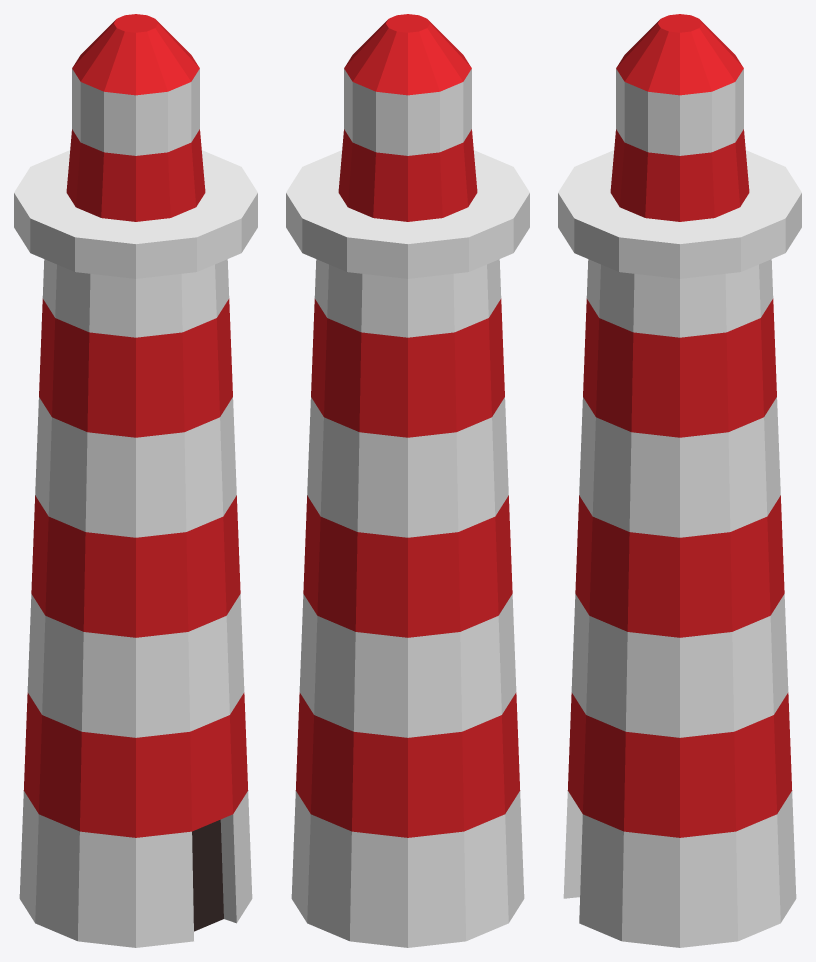
File: Lighthouse_tex.fbx
3 renders of one model, left to right at view 1: azimuth 30°, elevation 25°; view 2: azimuth 150°, elevation 25°; view 3: azimuth 270°, elevation 25°, orthographic.
Parts seen in each view (by area): view 1: Lighthouse_tex; view 2: Lighthouse_tex; view 3: Lighthouse_tex.
Boxes of the visible parts, x1,y1,x2,y2 form: Lighthouse_tex: [14, 14, 257, 947]; Lighthouse_tex: [286, 14, 529, 947]; Lighthouse_tex: [558, 14, 801, 947].
Size of the model in its own units: 2.6 by 10.31 by 2.6.
